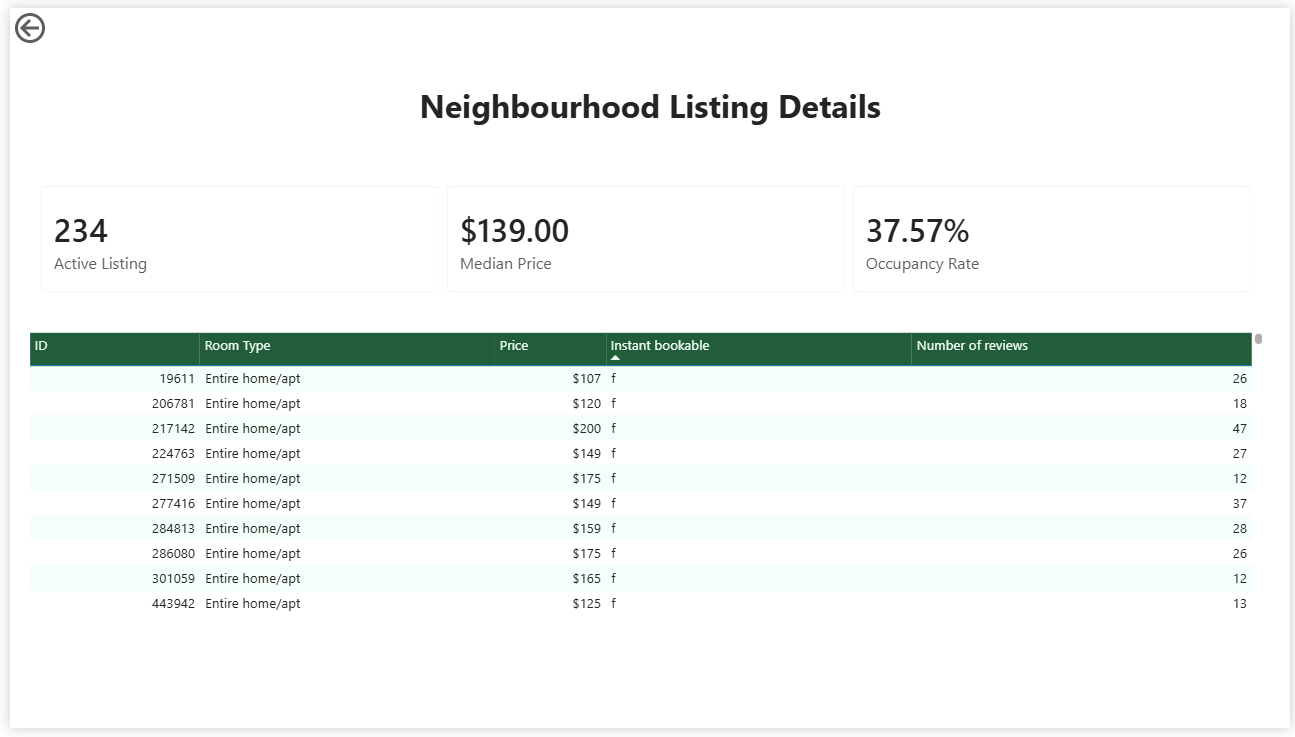

Layout of this report page (visuals, bound fields, positions):
{"tool":"powerbi","page":{"name":"neighbourhood_detail","canvas":[1280,720],"ordinal":3},"visuals":[{"type":"actionButton","box":[0,0,100,40],"z":0},{"type":"cardVisual","fields":{"Data":["fact_calendar.active_listings","fact_calendar.median_price","fact_calendar.occupancy_rate"]},"box":[14.3,161.4,1244.3,140],"z":1000},{"type":"tableEx","fields":{"Values":["dim_listing.id","dim_listing.room_type","dim_listing.price","dim_listing.instant_bookable","dim_listing.number_of_reviews"]},"box":[14.3,320,1244.3,291.4],"z":2000},{"type":"textbox","box":[114.3,71.4,1052.9,60],"z":3000}]}

Visuals, with their boxes in screenshot pixels (x1, y1, x2, y2), scaled from the page's 1280x720 canvas onto the 1295x737 screenshot:
actionButton: (0,0,101,41)
cardVisual - fact_calendar.active_listings x fact_calendar.median_price: (14,165,1273,309)
tableEx - dim_listing.id x dim_listing.room_type: (14,328,1273,626)
textbox: (116,73,1181,135)
